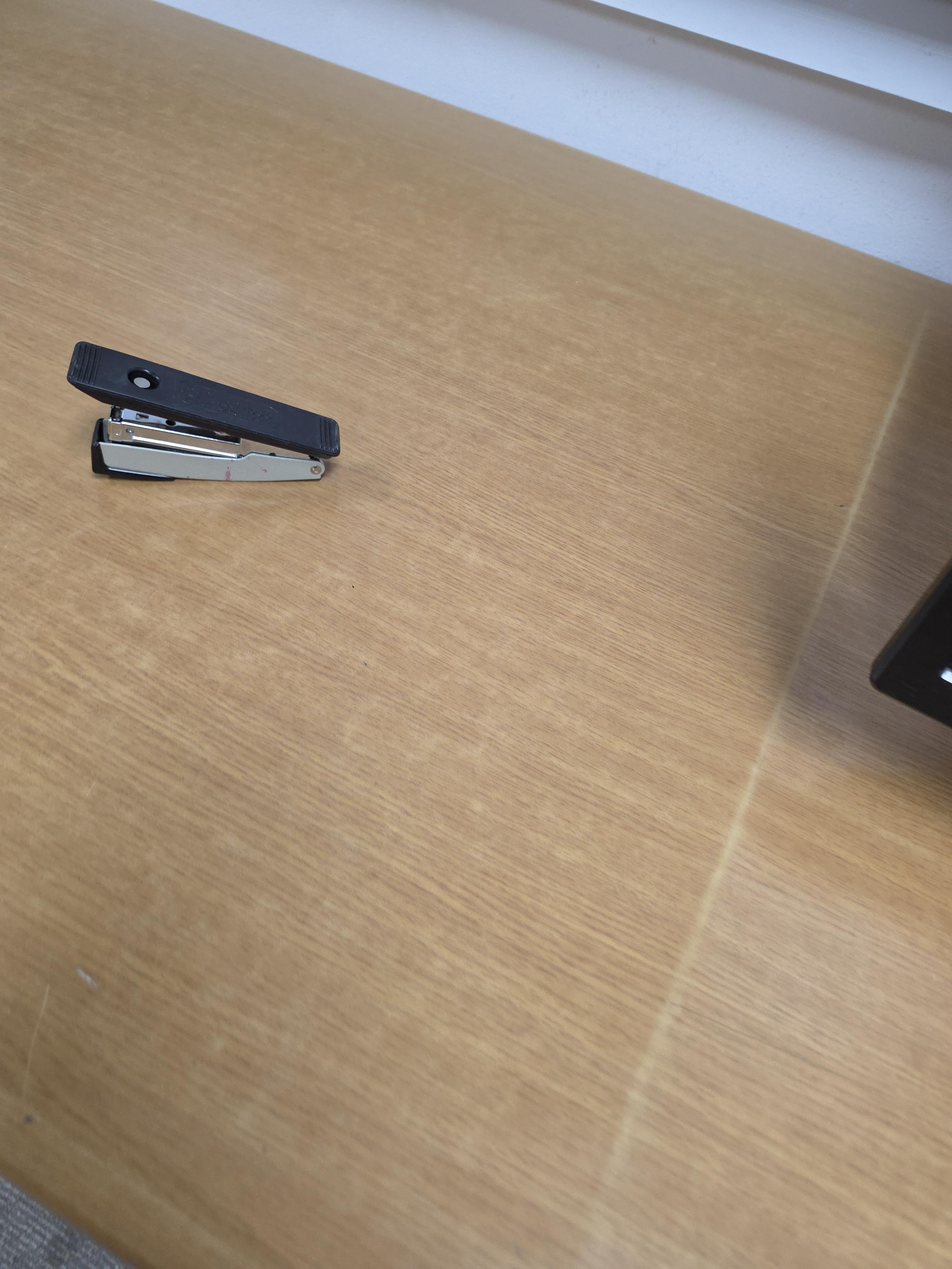stapler: (66, 341, 341, 482)
